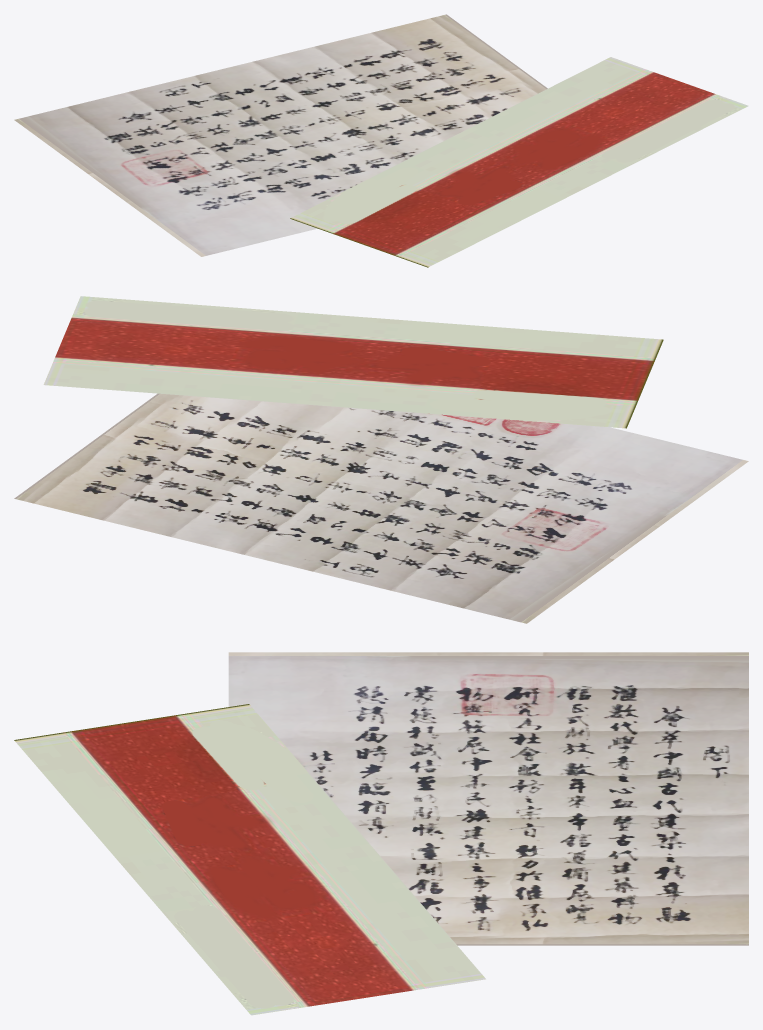
File: QingTie.FBX
3 renders of one model, top to bottom at view 1: azimuth 30°, elevation 25°; view 2: azimuth 150°, elevation 25°; view 3: azimuth 270°, elevation 25°, orthographic. The views are drawn at different scales.
Parts seen in each view (by area): view 1: Box001; view 2: Box001; view 3: Box001.
Part boxes in pixels (x1,y1,x2,y2): Box001: (14, 14, 748, 267); Box001: (14, 296, 748, 623); Box001: (14, 652, 748, 1015).
Bounding box in the file's own units: 34.89 × 0.5798 × 28.79.
